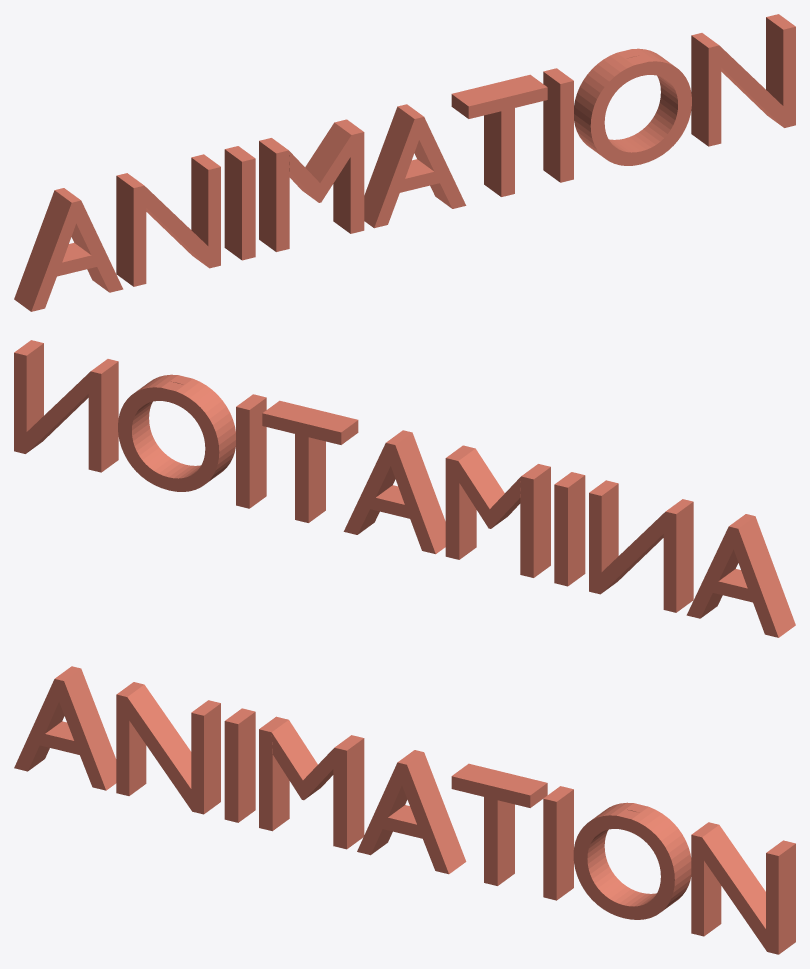
File: letters.glb
3 renders of one model, top to bottom at view 1: azimuth 30°, elevation 25°; view 2: azimuth 150°, elevation 25°; view 3: azimuth 330°, elevation 25°, orthographic.
Parts seen in each view (by area): view 1: Letter_M, Letter_O, Letter_N_1, Letter_n_2, Letter_A_1, Letter_A_2, Letter_T, Letter_I_1, Letter_I_2; view 2: Letter_M, Letter_O, Letter_N_1, Letter_n_2, Letter_A_1, Letter_A_2, Letter_T, Letter_I_1, Letter_I_2; view 3: Letter_N_1, Letter_n_2, Letter_M, Letter_O, Letter_A_2, Letter_A_1, Letter_T, Letter_I_1, Letter_I_2.
Part boxes in pixels (x1,y1,x2,y2): Letter_M: (259, 119, 364, 251); Letter_O: (574, 48, 691, 165); Letter_N_1: (116, 154, 220, 286); Letter_n_2: (691, 14, 795, 146); Letter_A_1: (14, 188, 123, 311); Letter_A_2: (364, 104, 466, 228); Letter_T: (451, 74, 547, 196); Letter_I_1: (224, 146, 255, 260); Letter_I_2: (543, 68, 573, 182); Letter_M: (445, 445, 550, 577); Letter_O: (118, 374, 235, 491); Letter_N_1: (589, 480, 693, 612); Letter_n_2: (14, 340, 118, 472); Letter_A_1: (686, 514, 795, 637); Letter_A_2: (343, 430, 445, 554); Letter_T: (262, 400, 358, 522); Letter_I_1: (554, 472, 585, 586); Letter_I_2: (236, 394, 266, 508); Letter_N_1: (116, 682, 220, 814); Letter_n_2: (691, 822, 795, 954); Letter_M: (259, 716, 364, 849); Letter_O: (573, 802, 691, 919); Letter_A_2: (357, 750, 466, 874); Letter_A_1: (14, 666, 116, 790); Letter_T: (451, 763, 547, 885); Letter_I_1: (224, 708, 255, 822); Letter_I_2: (543, 786, 573, 900).
Bounding box in the file's own units: 5.53 × 0.7 × 0.2158.
